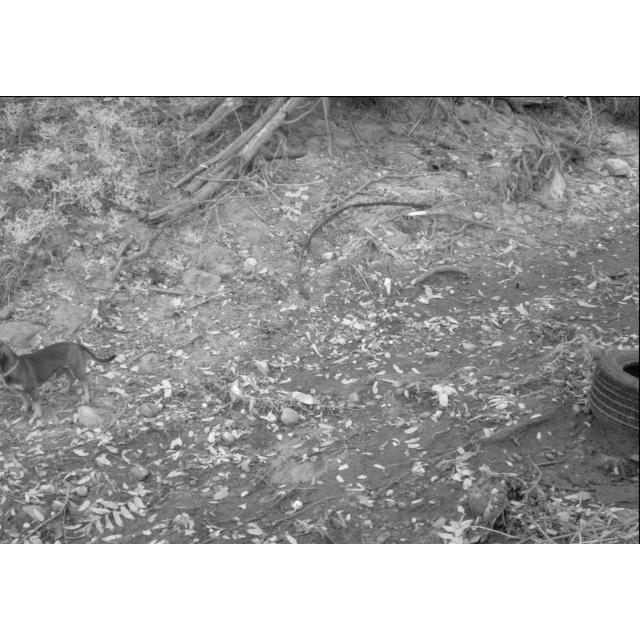animals: (0, 334, 121, 416)
